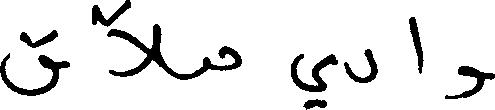X: (0, 25, 58, 100), (110, 0, 158, 81), (292, 49, 335, 109), (448, 61, 494, 103), (345, 44, 376, 87), (214, 41, 242, 75), (410, 12, 421, 78)
